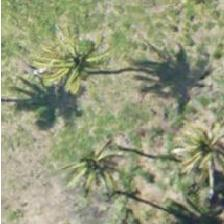Kelapa_Sawit: (26, 11, 116, 101), (38, 124, 128, 214)
